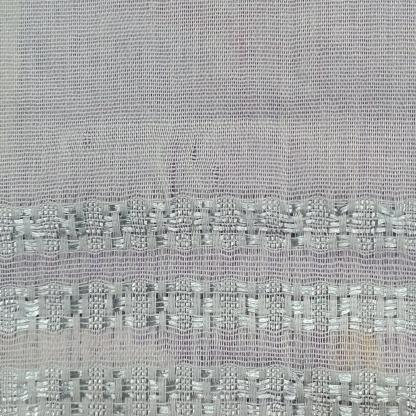spot: (361, 332, 377, 375), (336, 342, 356, 374)
